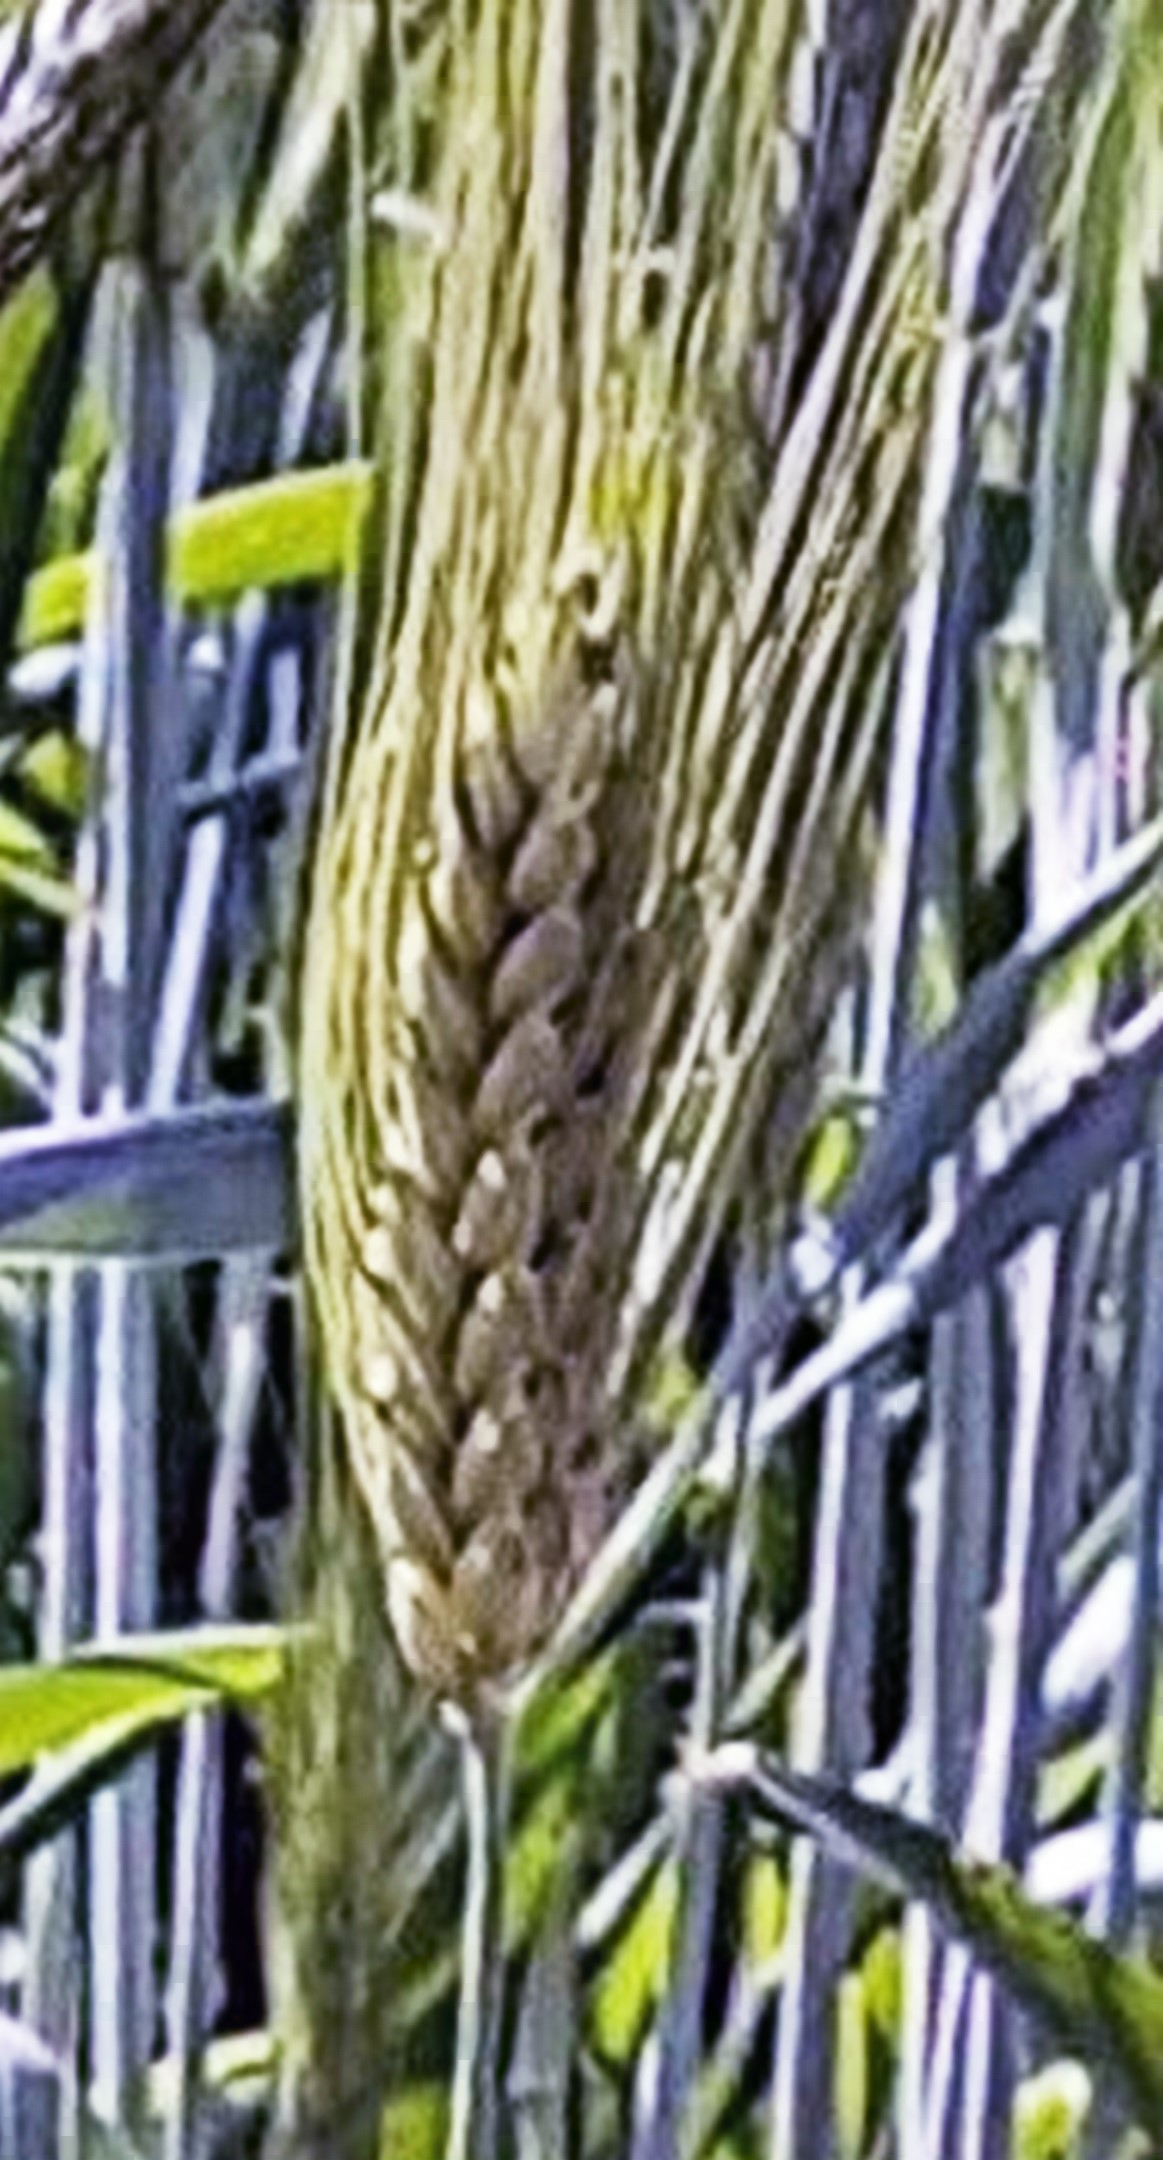Healthy Wheat: (338, 525, 718, 1713)
